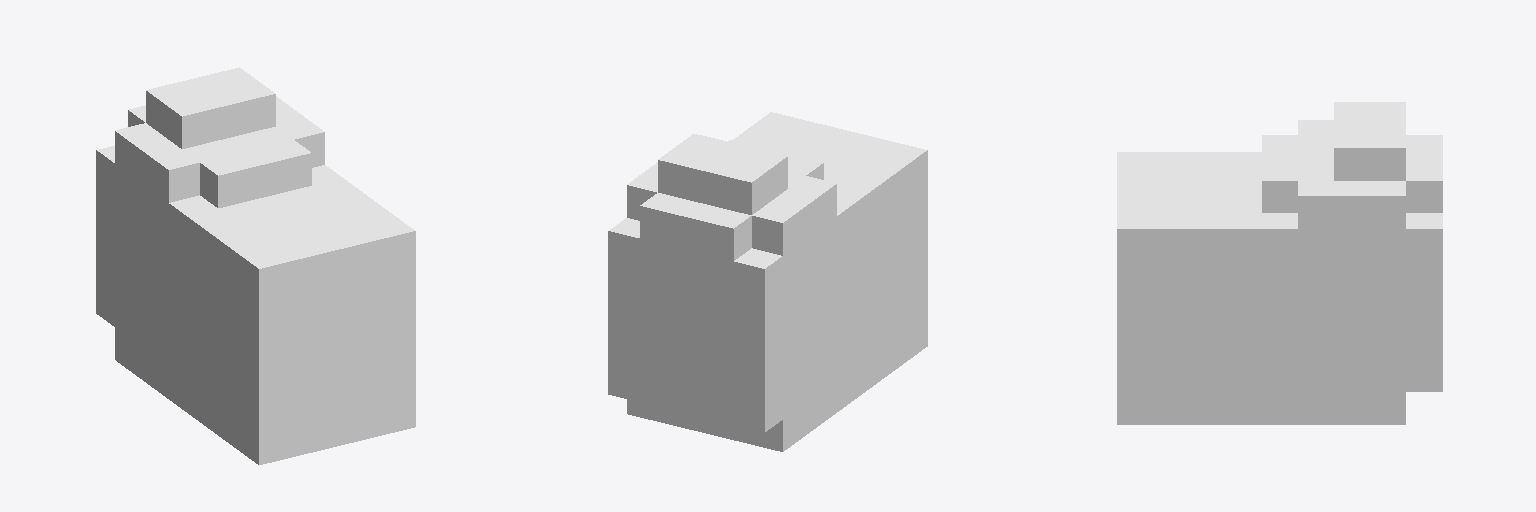
The model's file is anim_penguin_v2_skies_body.obj.
The picture shows the model from 3 angles: view 1: azimuth 30°, elevation 25°; view 2: azimuth 150°, elevation 25°; view 3: azimuth 270°, elevation 25°; orthographic projection.
Parts seen in each view (by area): view 1: object 1; view 2: object 1; view 3: object 1.
Part boxes in pixels (left/top/right/bottom): object 1: left=96, top=67, right=415, bottom=464; object 1: left=608, top=112, right=927, bottom=451; object 1: left=1117, top=102, right=1442, bottom=424.
Bounding box in the file's own units: 0.5 × 0.8 × 0.9.